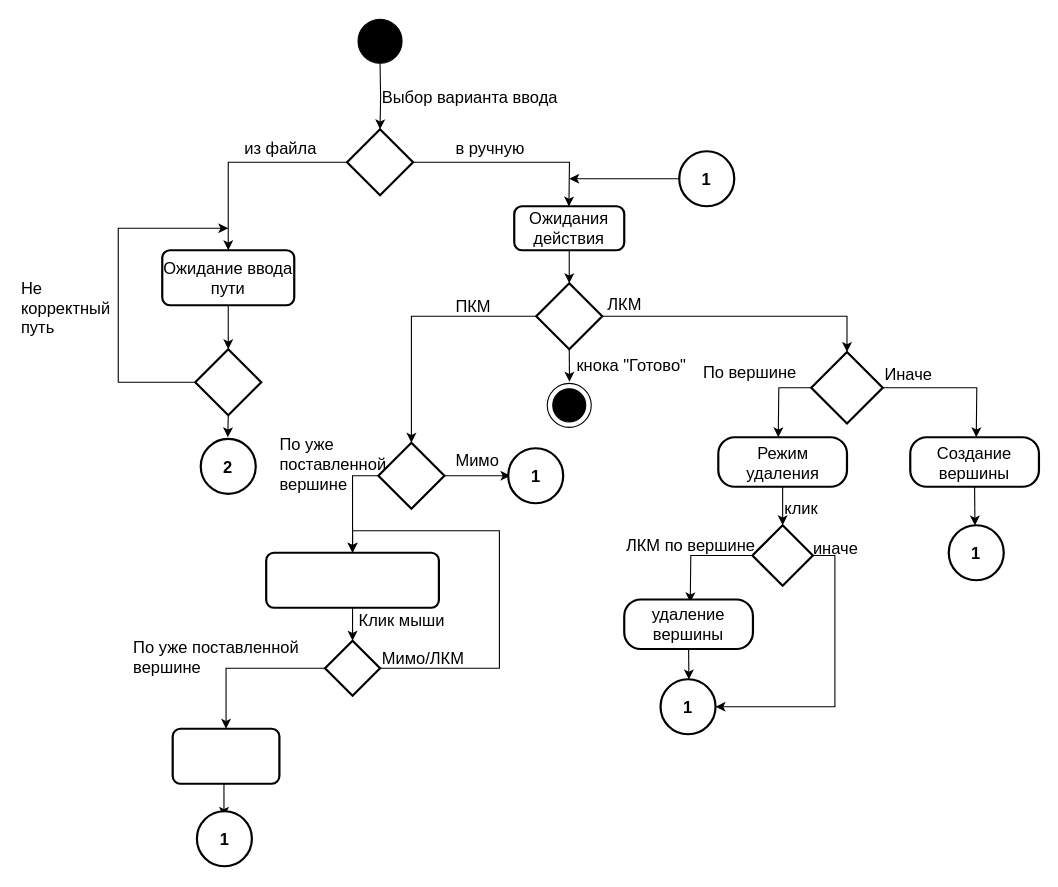
Some shapes in this 1058 by 887 pixel diagram are drawn without their labels. The centre of each missing label's shape, as x and y in pixels:
"Добавление ребра" belongs at [225,755].
"Ожидание выбора второй вершины" belongs at [352,579].
